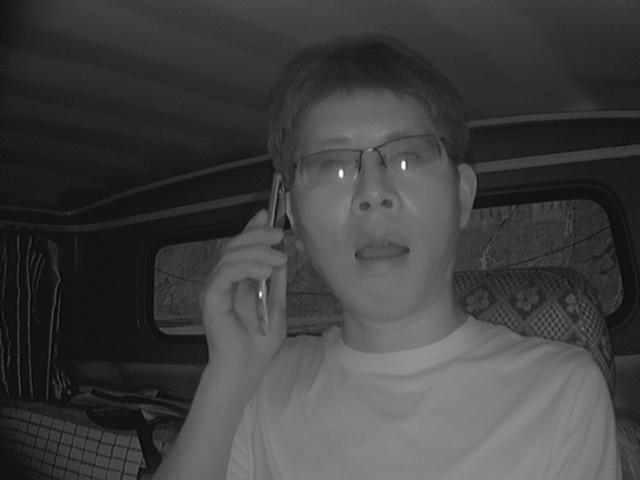hand: (195, 212, 292, 351)
